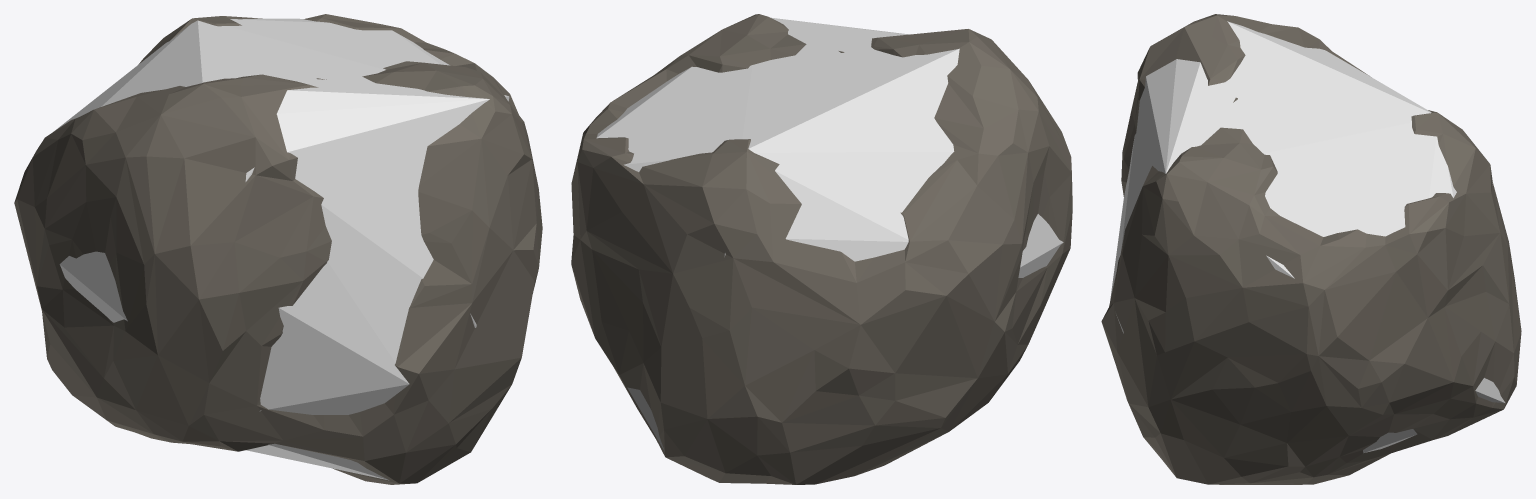
The model's file is SM_Env_Asteroid_02.fbx.
3 views of the same model, side by side, from view 1: azimuth 30°, elevation 25°; view 2: azimuth 150°, elevation 25°; view 3: azimuth 270°, elevation 25° (orthographic). The views are drawn at different scales.
Parts seen in each view (by area): view 1: SM_Env_Asteroid_02_LOD0, SM_Env_Asteroid_02_ConvexHulls; view 2: SM_Env_Asteroid_02_LOD0, SM_Env_Asteroid_02_ConvexHulls; view 3: SM_Env_Asteroid_02_LOD0, SM_Env_Asteroid_02_ConvexHulls.
Boxes of the visible parts, bbox=[...] form: SM_Env_Asteroid_02_LOD0: bbox=[14, 14, 542, 484]; SM_Env_Asteroid_02_ConvexHulls: bbox=[53, 18, 509, 480]; SM_Env_Asteroid_02_LOD0: bbox=[571, 14, 1072, 484]; SM_Env_Asteroid_02_ConvexHulls: bbox=[596, 17, 1063, 451]; SM_Env_Asteroid_02_LOD0: bbox=[1101, 14, 1521, 484]; SM_Env_Asteroid_02_ConvexHulls: bbox=[1110, 21, 1505, 452].
Size of the model in its own units: 641 by 728 by 654.
Materials: 1 (1 with a texture image).
